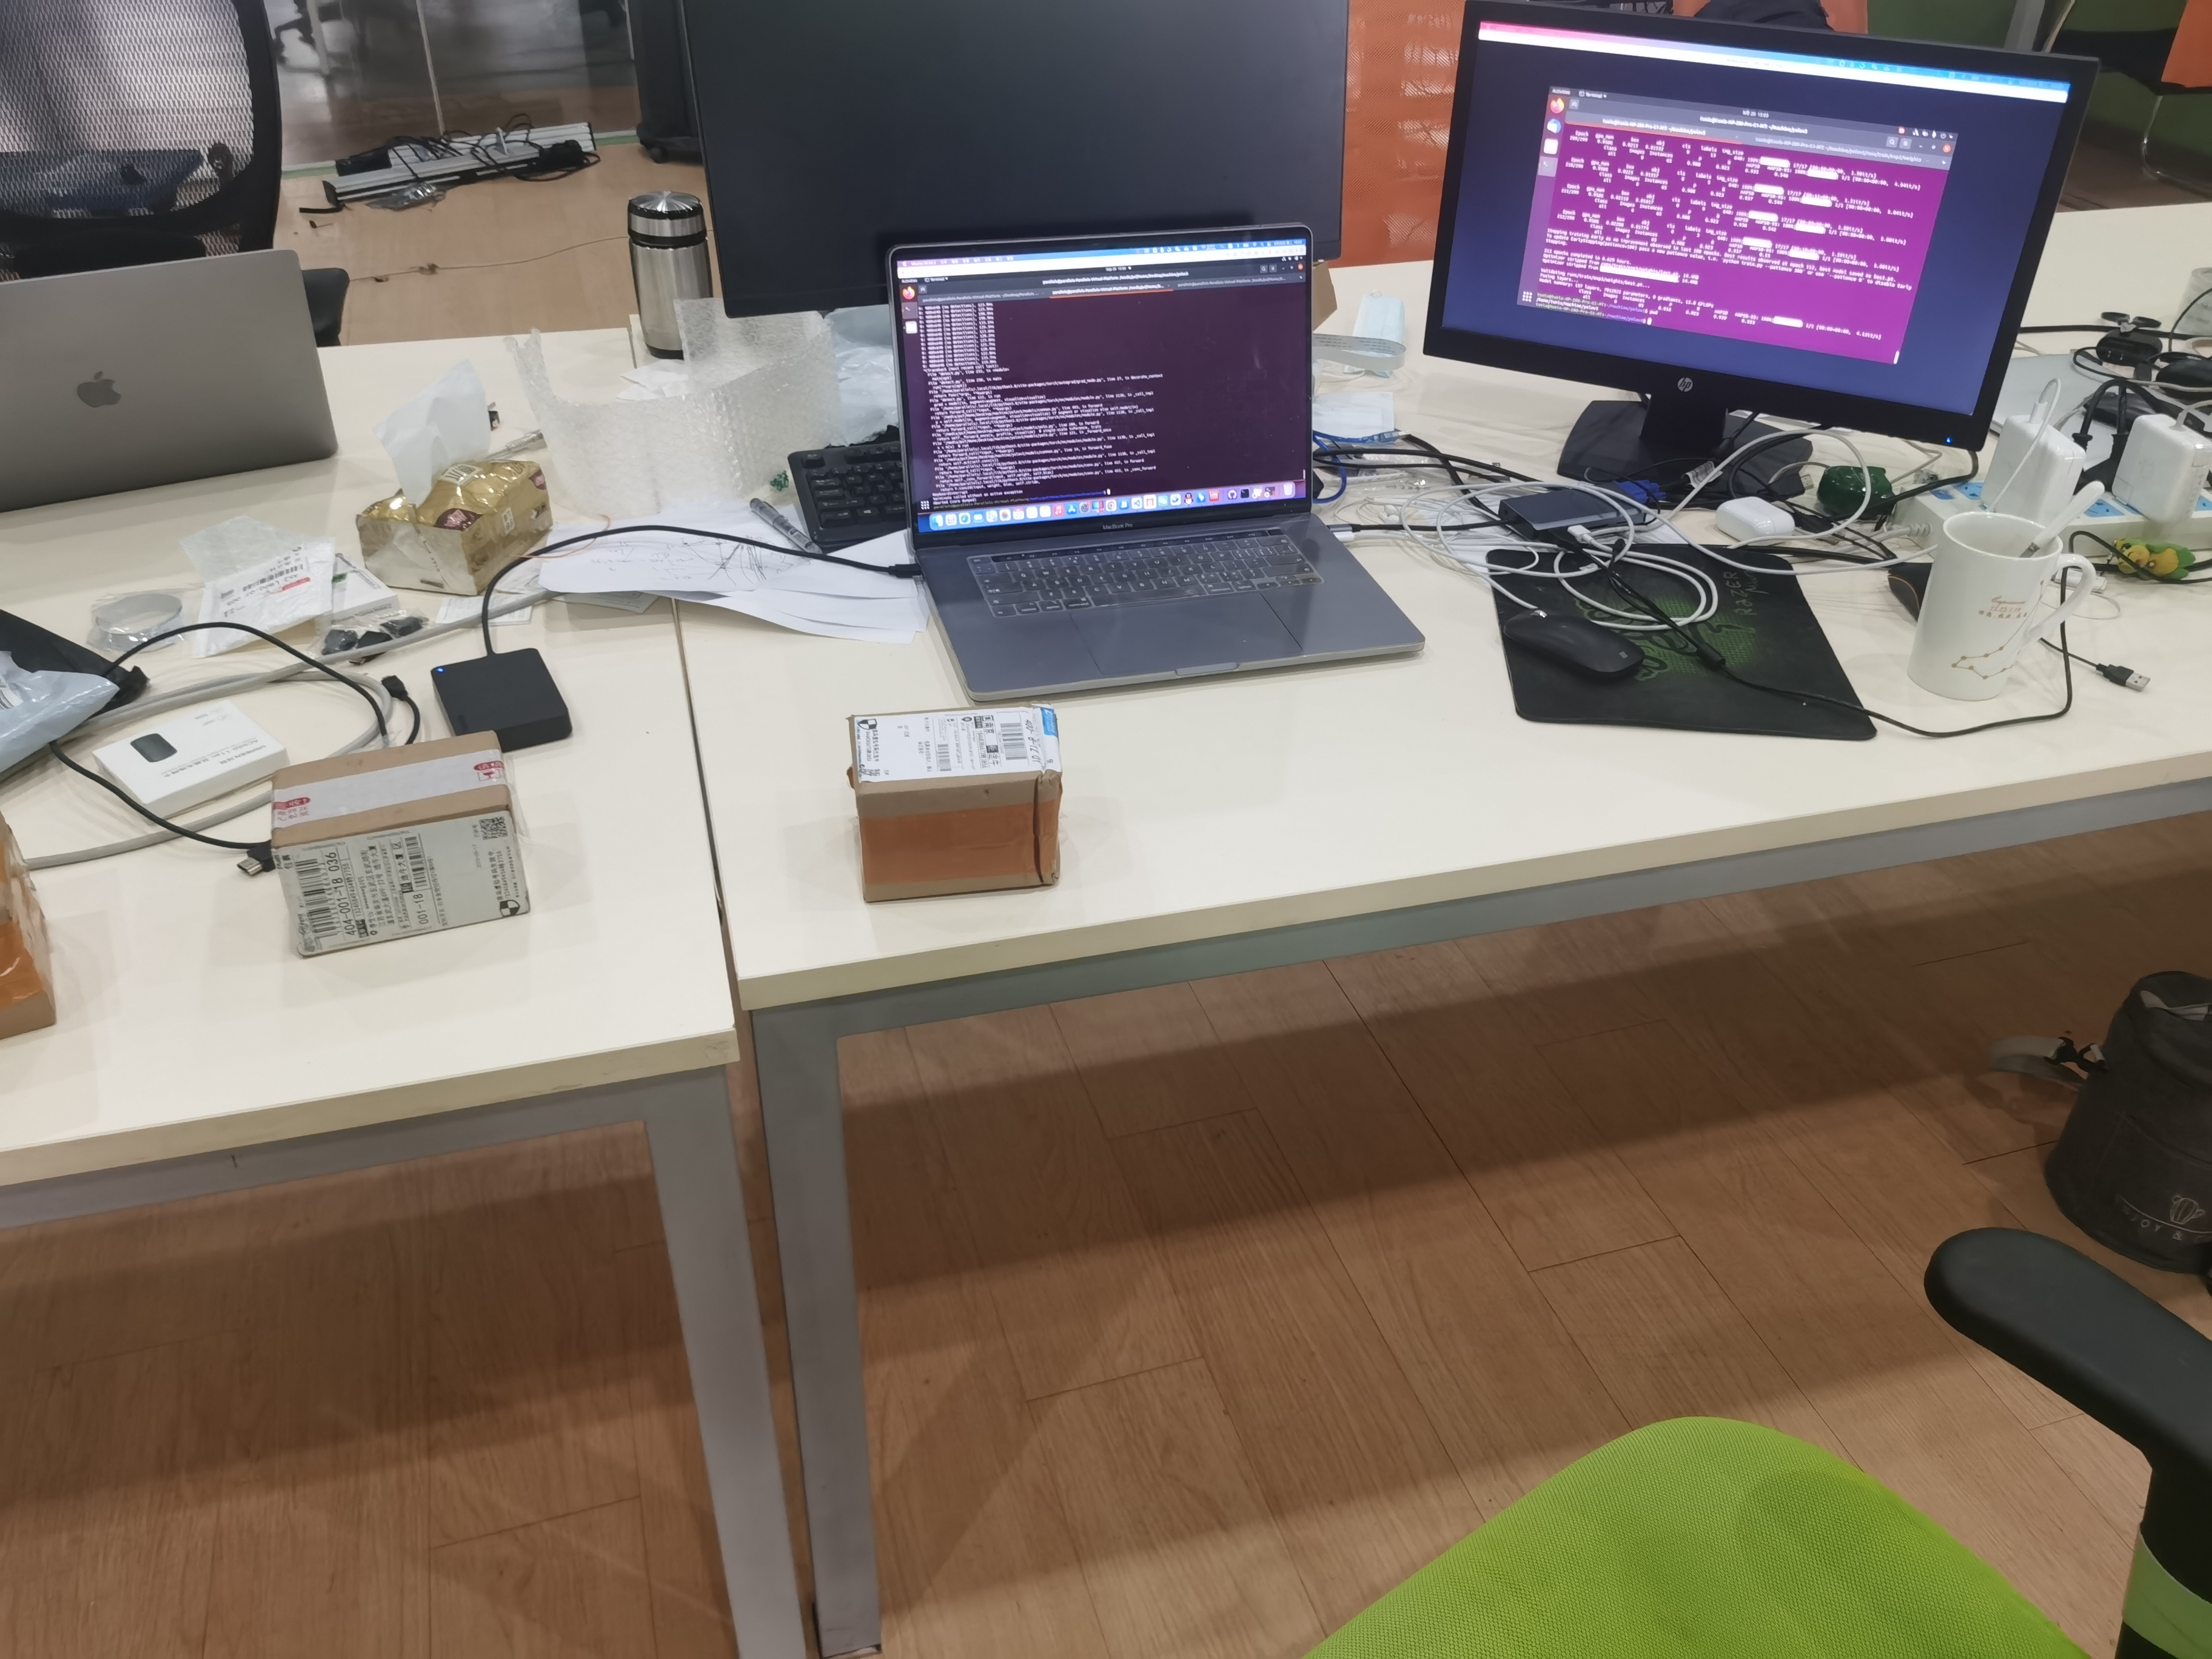box: (270, 730, 526, 965), (838, 704, 1075, 908), (3, 807, 66, 1035)
